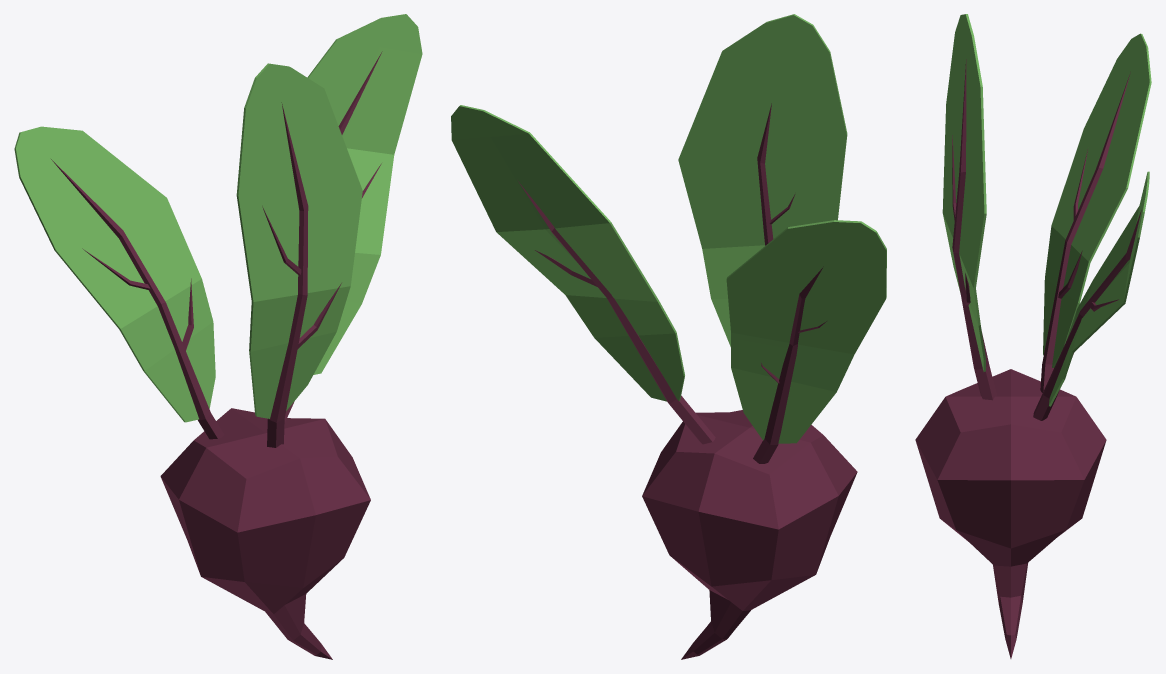
The model's file is Beet_4-optimized.glb.
3 renders of one model, left to right at view 1: azimuth 30°, elevation 25°; view 2: azimuth 150°, elevation 25°; view 3: azimuth 270°, elevation 25°, orthographic. The views are drawn at different scales.
Parts seen in each view (by area): view 1: Beet_4; view 2: Beet_4; view 3: Beet_4.
Boxes of the visible parts, x1,y1,x2,y2 form: Beet_4: (14, 14, 422, 659); Beet_4: (451, 14, 886, 659); Beet_4: (915, 14, 1151, 658).
Size of the model in its own units: 0.7512 by 1.1 by 0.3899.
